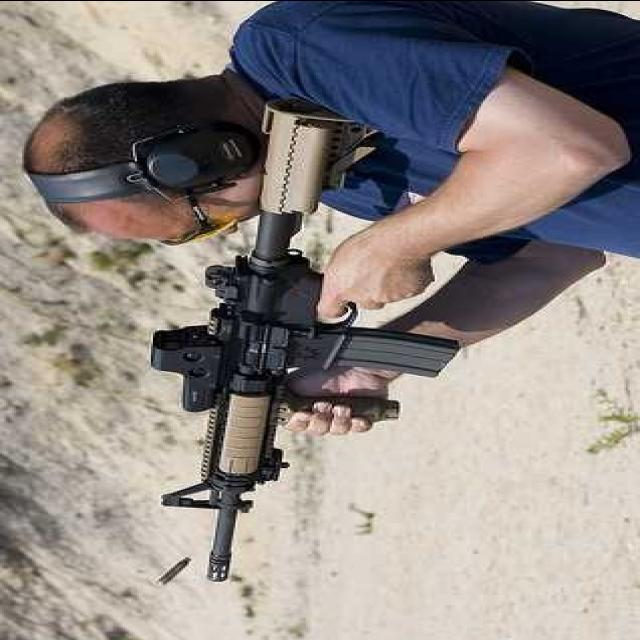heavyweapon: (94, 96, 496, 596)
